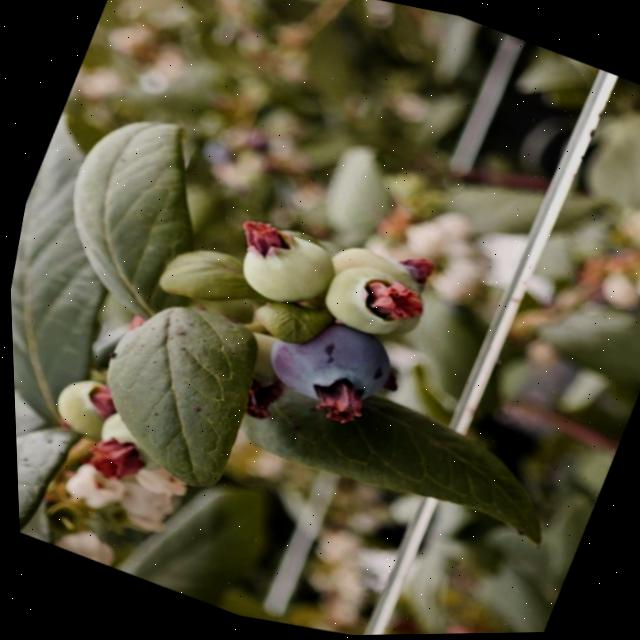RipeBlueBerry: (248, 297, 410, 435)
UnripeBlueBerry: (214, 209, 348, 328), (308, 250, 429, 357)
